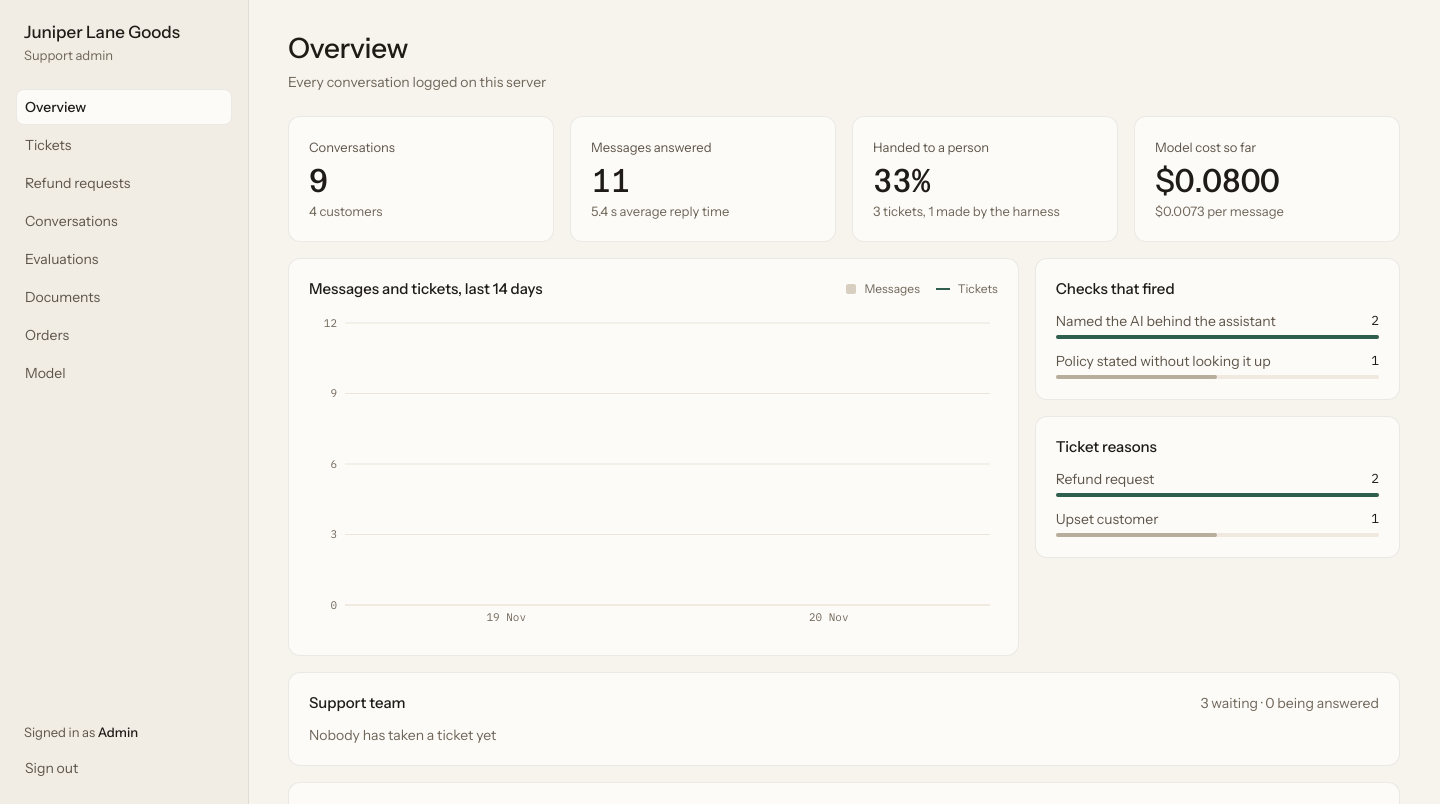
tickets › opens the conversation behind a ticket, and leads back to the ticket
Click the button "Conversations" at (124, 221), box [16, 203, 232, 239]
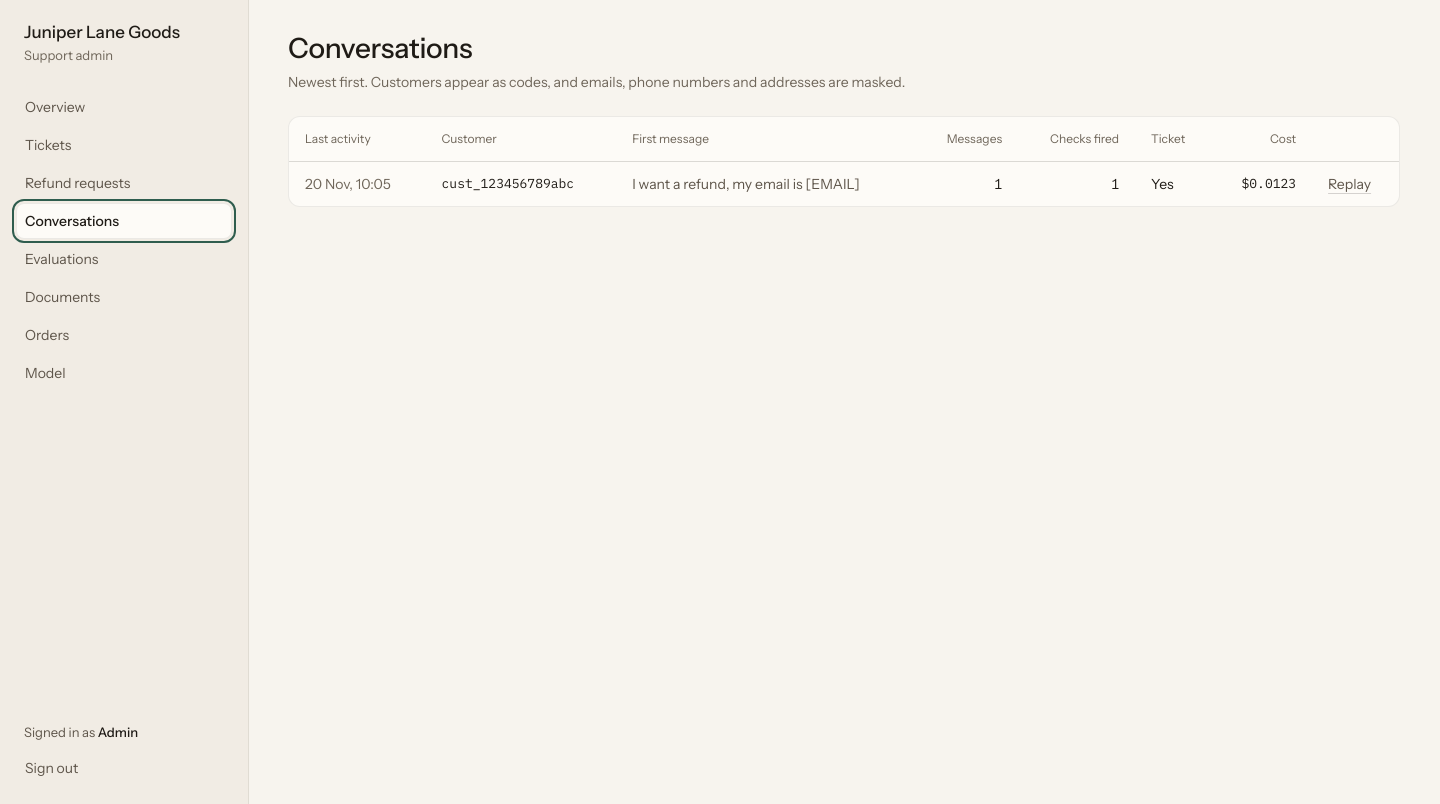
Click the button "Replay" at (1350, 184), box [1328, 174, 1371, 194]
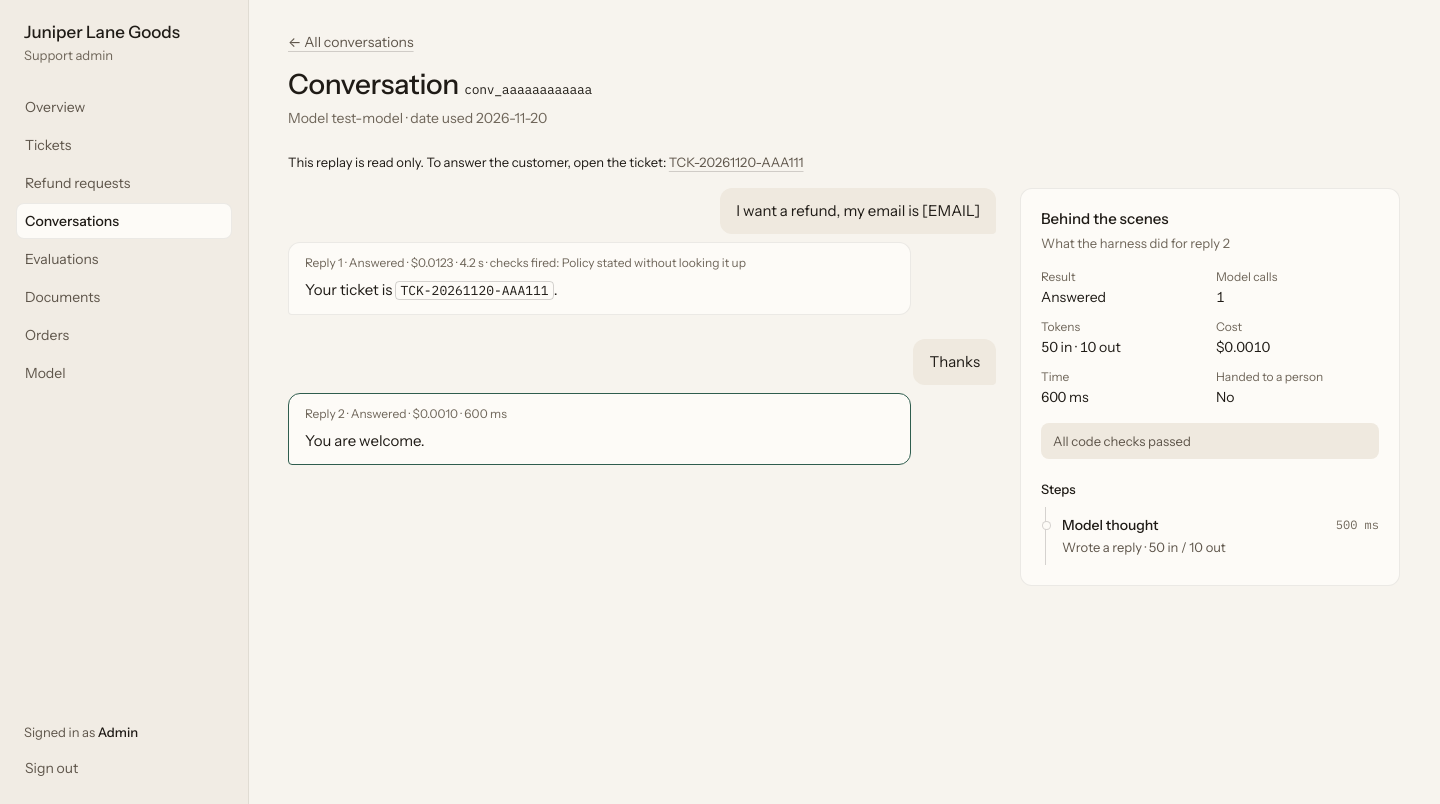
Check: the element named "Conversation replay" is shown, box [288, 32, 1400, 586]
Check: the text with class "ticket-ref" reads "TCK-20261120-AAA111", box [400, 282, 549, 299]
Check: the text "This replay is read only" is shown, box [288, 154, 666, 170]
Click the button "TCK-20261120-AAA111" at (736, 162), box [669, 152, 803, 172]
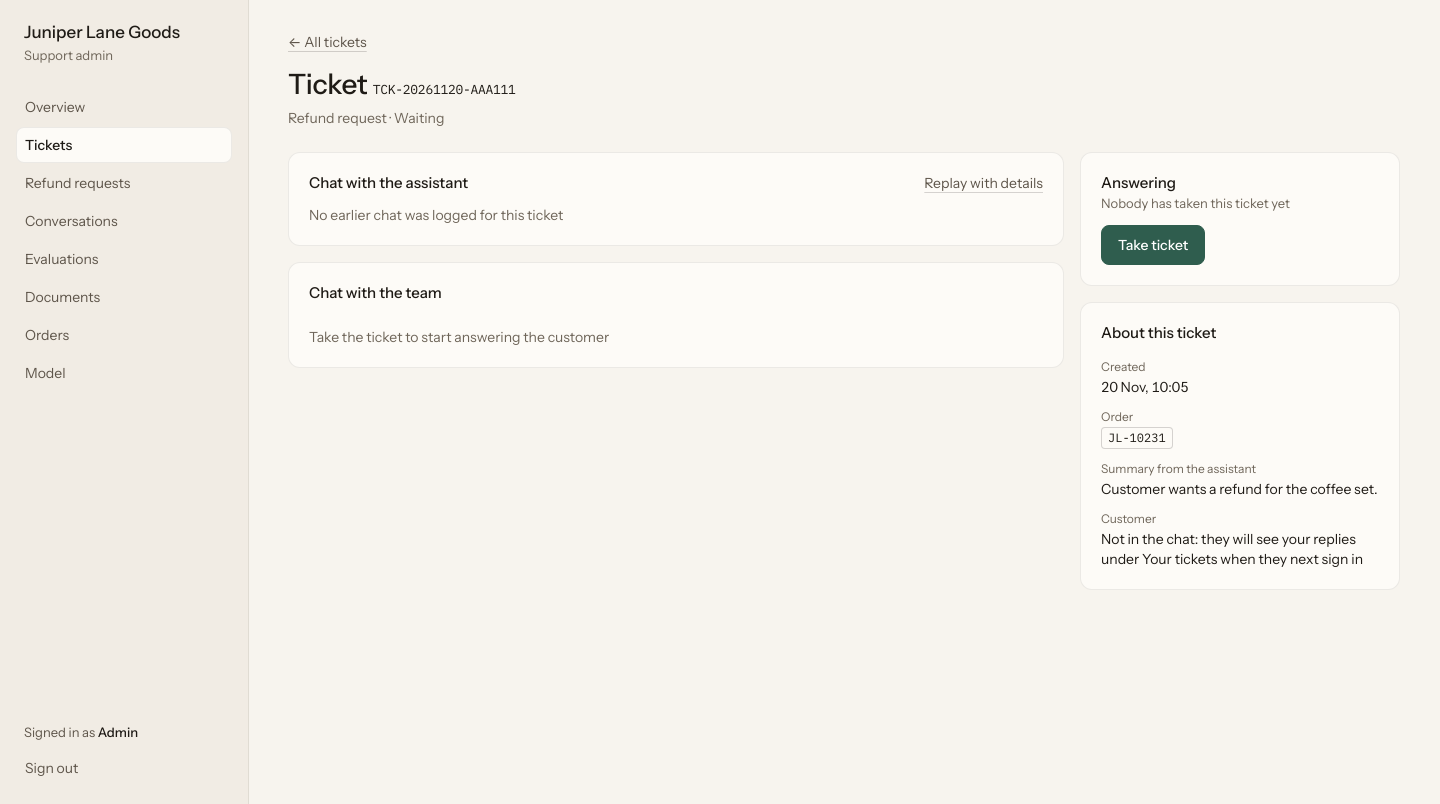
Check: the element "Ticket TCK-20261120-AAA111" is shown, box [288, 32, 1400, 590]
